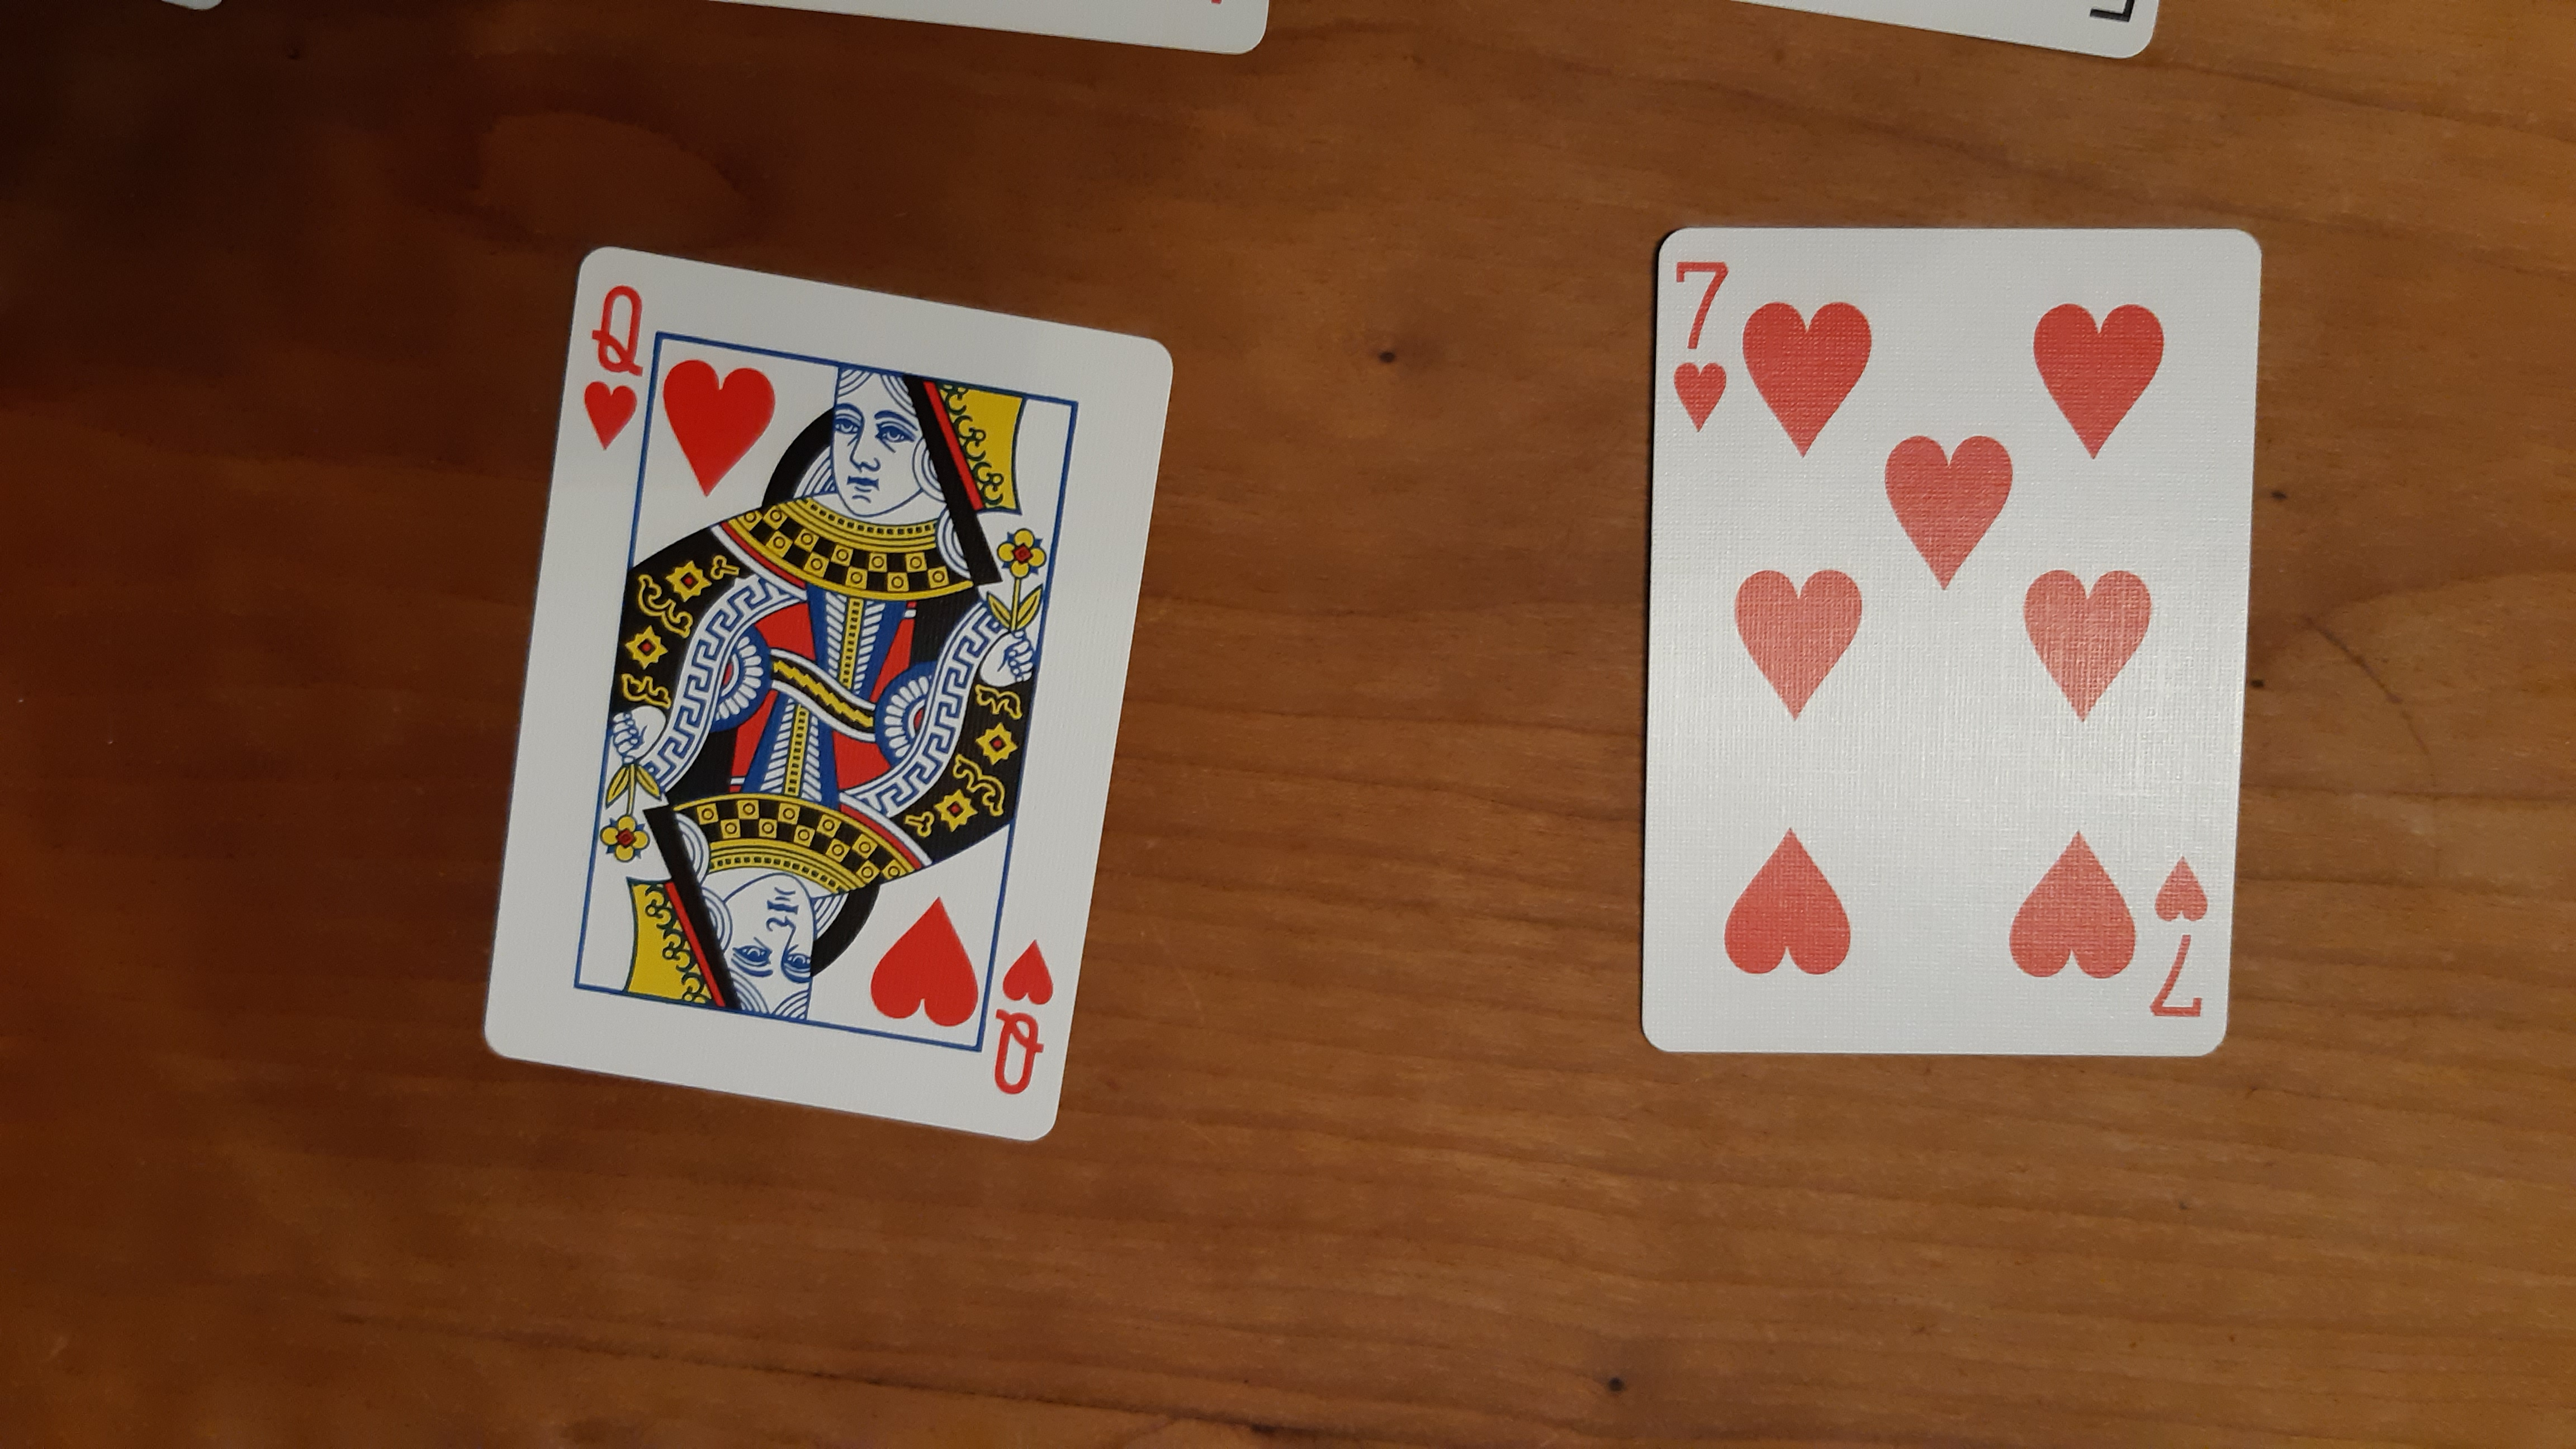Red_Heart_7: (1665, 248, 1744, 432), (2146, 853, 2219, 1031)
Red_Heart_Queen: (575, 272, 653, 456), (982, 931, 1062, 1099)
